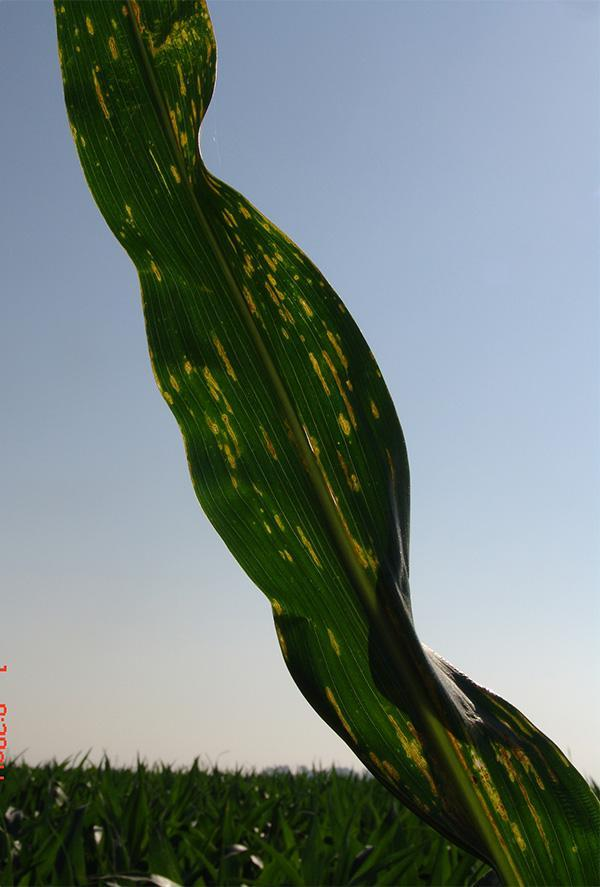Corn_Blight: (42, 9, 438, 663), (315, 686, 599, 884)
